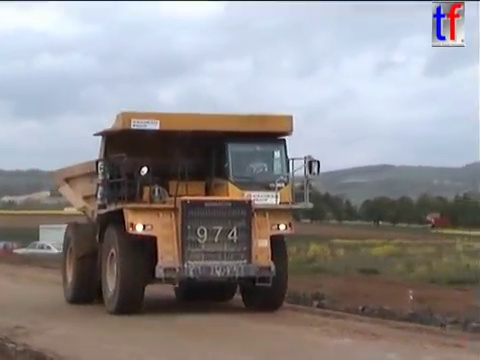truck: (49, 109, 322, 316)
